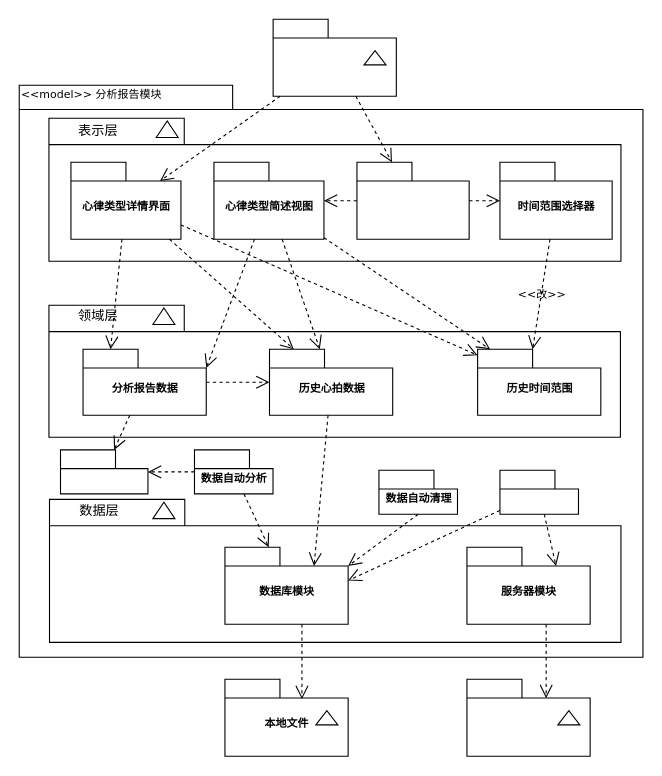
Some shapes in this 662 by 776 pixel diagram are drawn without their labels. The shapes that lost their labels are listed below. From the top down, each one's box as (x1, y1, x2, y2) in pixels, then its label:
(272, 18, 396, 96): 用户
(356, 161, 469, 239): 分析报告界面
(59, 449, 148, 494): 智能检测算法
(499, 469, 578, 514): 数据自动上传
(466, 678, 590, 756): 服务器
